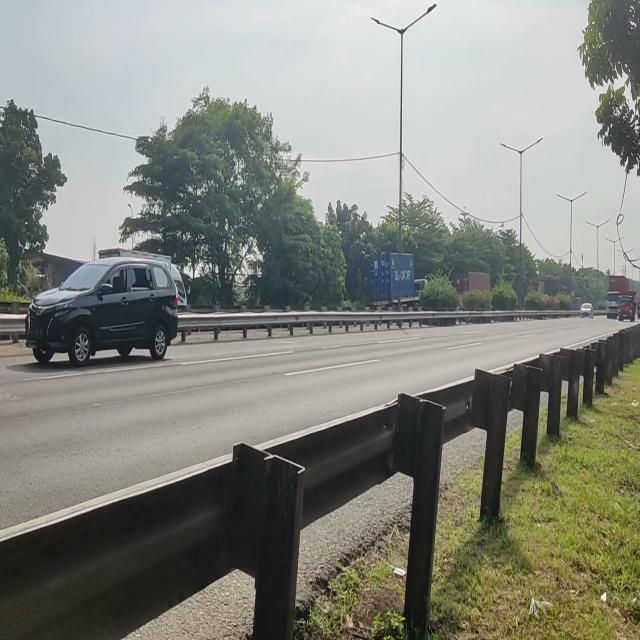Golongan I: (21, 250, 179, 376)
